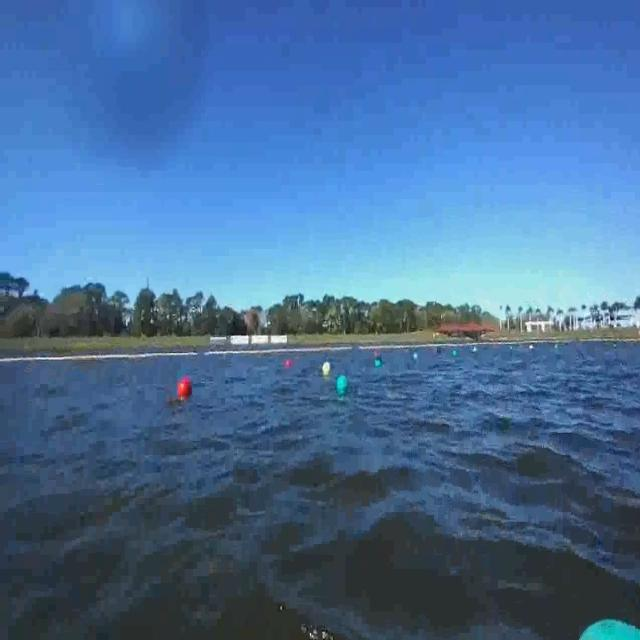green-buoy: (562, 613, 640, 640), (338, 375, 350, 393), (376, 358, 383, 368)
red-buoy: (181, 374, 195, 398)
yellow-buoy: (322, 361, 330, 375)
